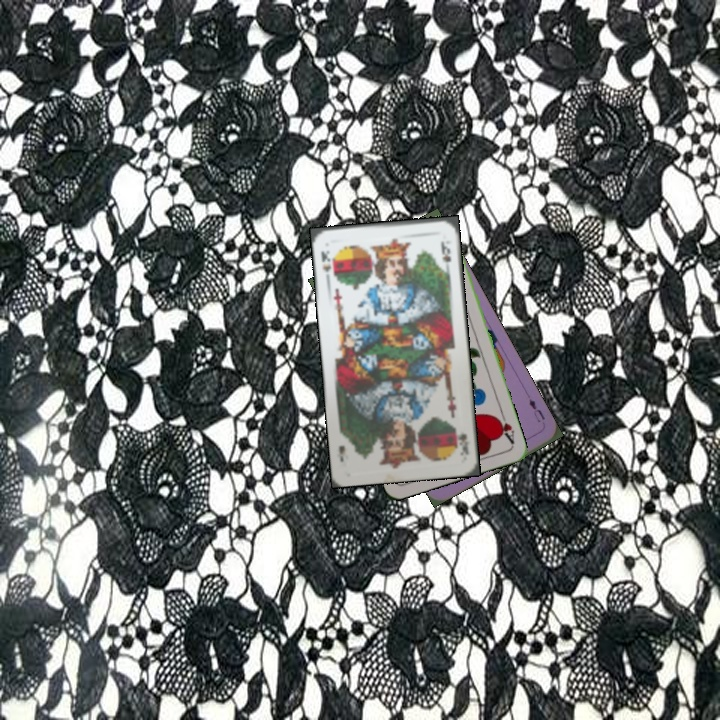EU: (525, 395, 548, 425)
HA: (492, 407, 517, 447)
SK: (317, 247, 337, 283), (451, 423, 471, 458)
